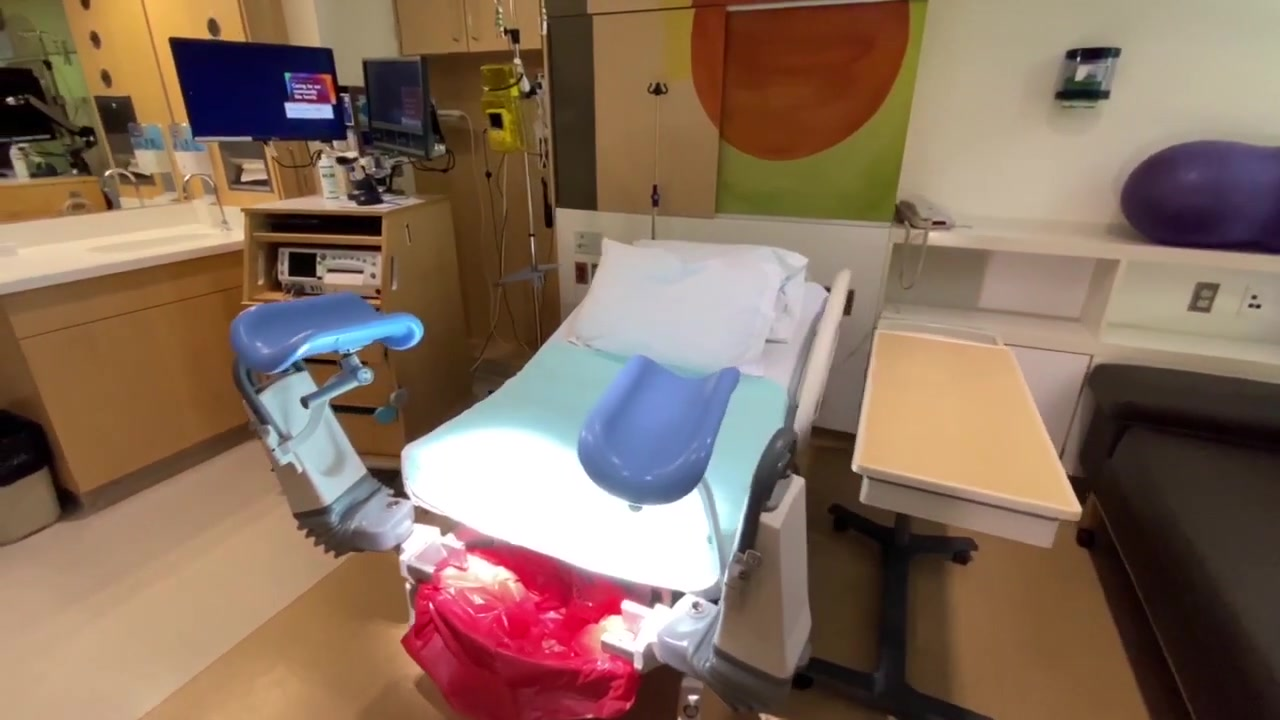bedrail: (791, 263, 853, 440)
computer: (168, 36, 348, 141), (361, 56, 438, 161)
counter: (1, 241, 266, 501)
countertop: (1, 220, 250, 301)
dispenser: (124, 123, 170, 177), (168, 121, 214, 175)
drawer: (241, 195, 454, 452)
faucet: (179, 174, 233, 231), (88, 165, 145, 211)
handle: (449, 1, 463, 44), (467, 1, 480, 44)
hospital_bed: (405, 234, 855, 720)
iv_pole: (491, 1, 542, 350), (646, 82, 669, 240)
mouse: (357, 191, 383, 205)
overbed_table: (791, 320, 1083, 720)
sink: (93, 222, 219, 260)
sofa: (1083, 362, 1280, 720)
telephone: (895, 192, 955, 236)
waste_bin: (396, 531, 666, 720), (1, 408, 62, 546)
